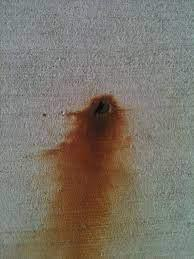Corrosion: (29, 93, 137, 259)
